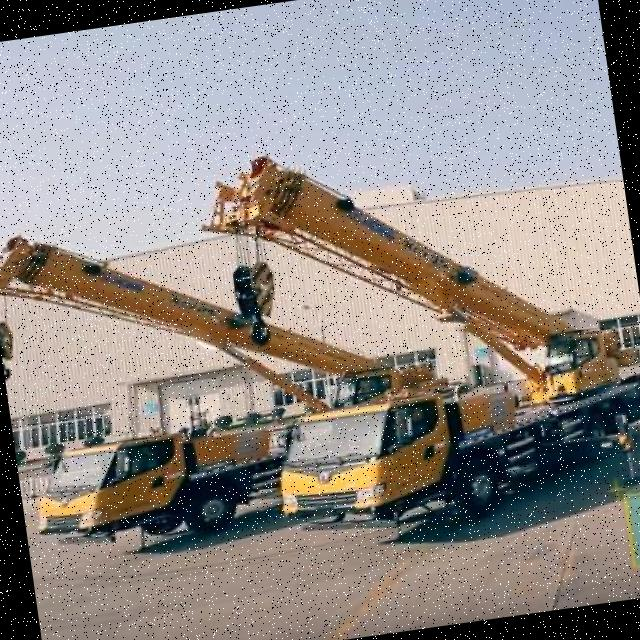Mobile Crane: (198, 109, 640, 560), (0, 185, 441, 555)
